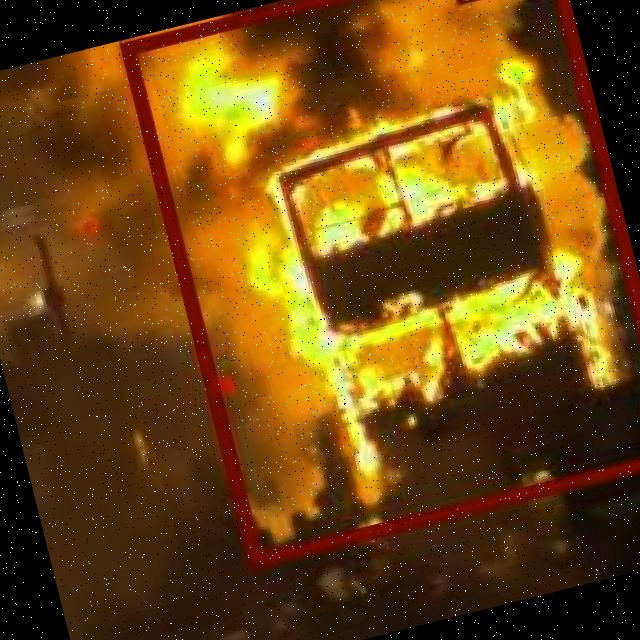fire: (121, 0, 640, 565)
